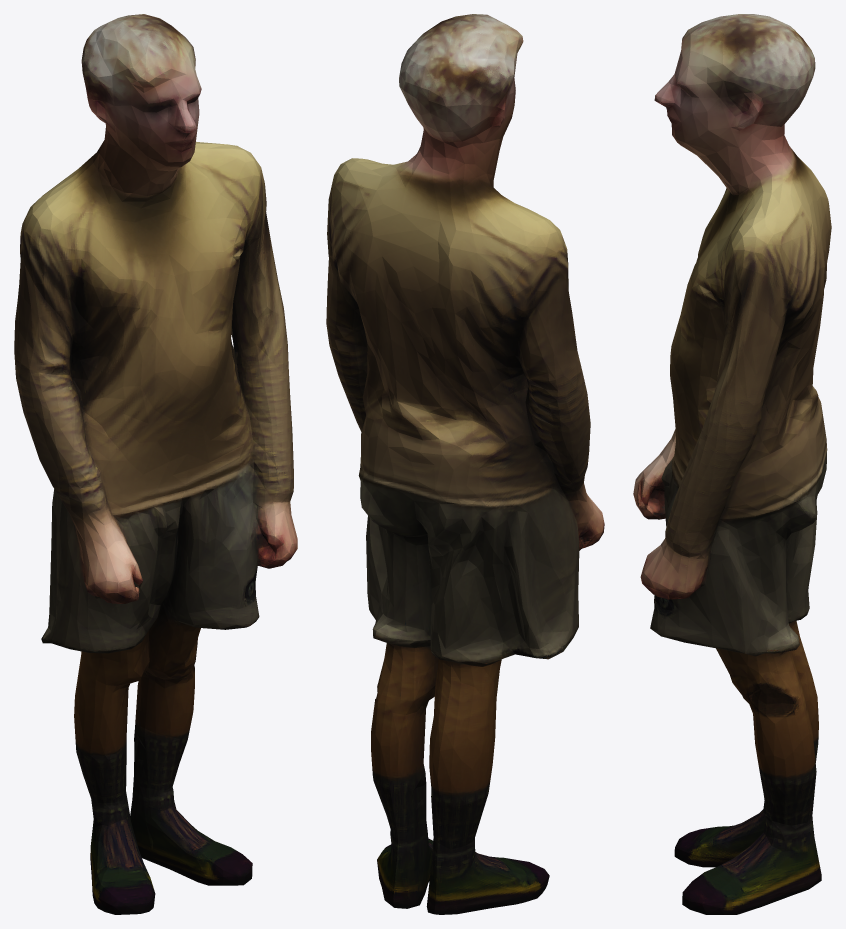
The model's file is mannequin.glb.
3 renders of one model, left to right at view 1: azimuth 30°, elevation 25°; view 2: azimuth 150°, elevation 25°; view 3: azimuth 270°, elevation 25°, orthographic.
Parts seen in each view (by area): view 1: world; view 2: world; view 3: world.
Part boxes in pixels (bbox=[...]): world: bbox=[14, 14, 297, 914]; world: bbox=[326, 14, 604, 914]; world: bbox=[633, 14, 831, 914].
Size of the model in its own units: 0.3054 by 0.9975 by 0.2097.
1 material, 1 textured.
